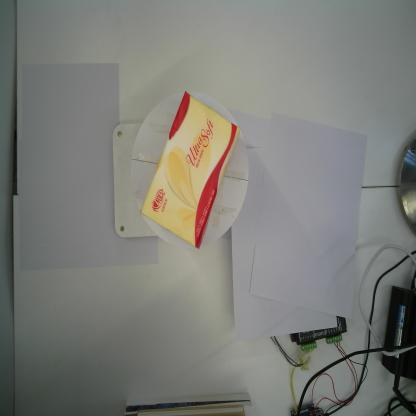Tissue: (140, 91, 242, 249)
